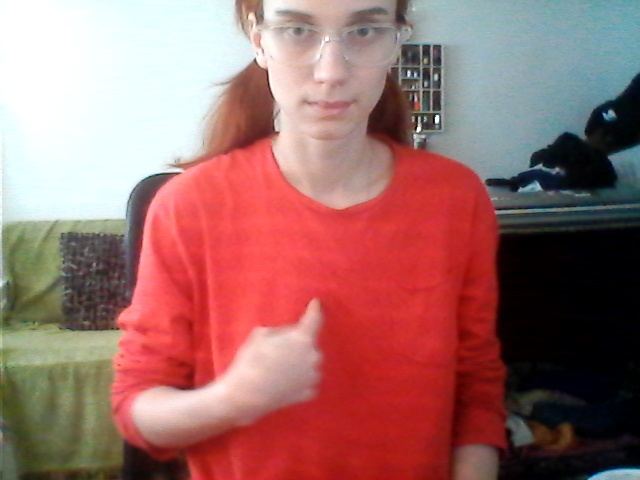ja: (226, 285, 348, 426)
